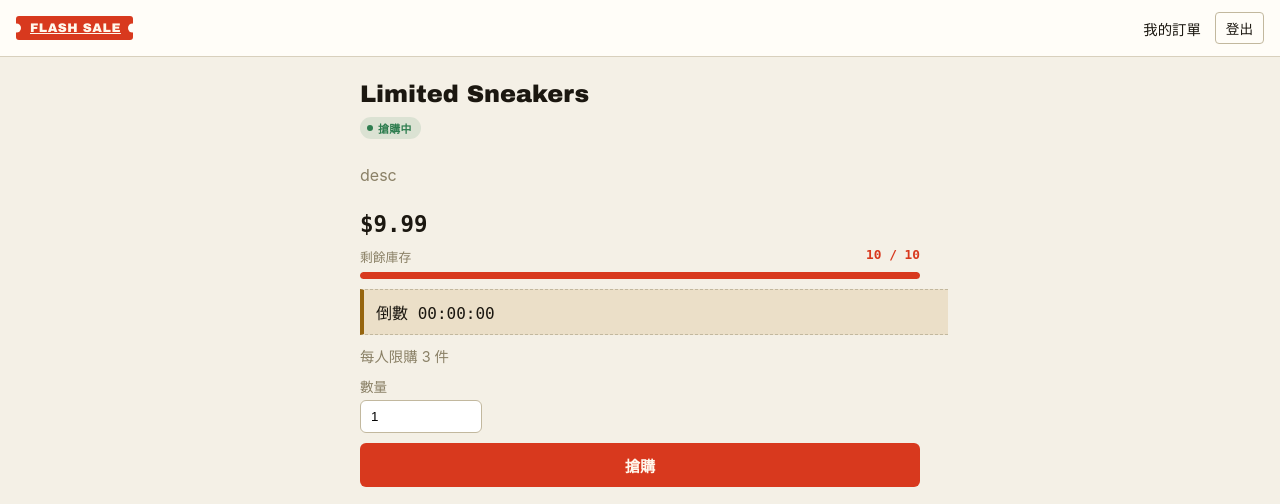
Scenario: FlashSaleDetailPage purchase button › disables the purchase button when quantity is 0
The image size is (1280, 504).
Replace the text in the number field labelled "數量" with "0": (421, 416) [360,400,482,433]
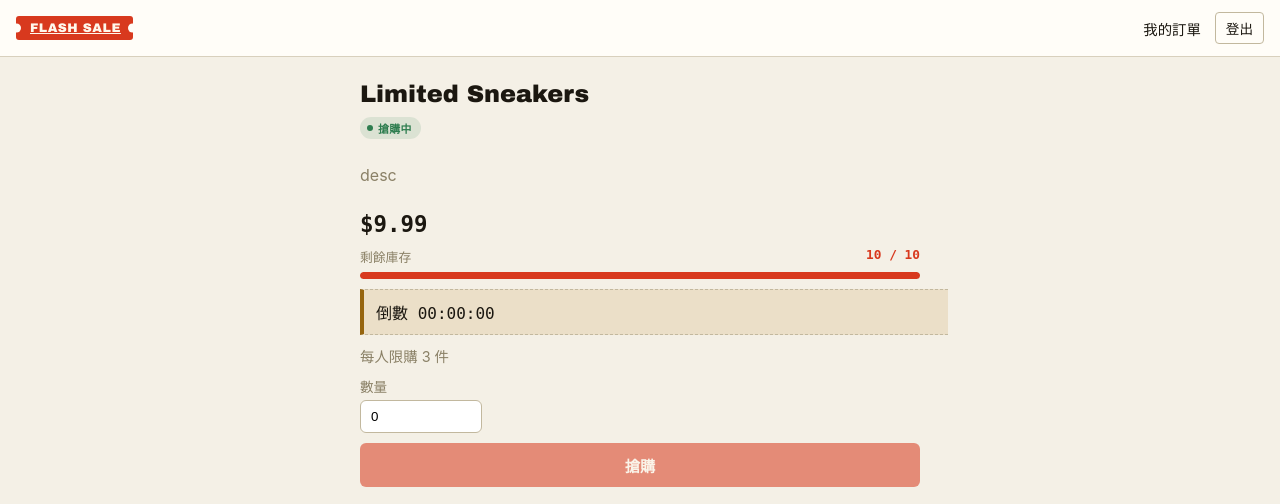
Result: the button "搶購" is disabled at [360,443,920,487]
